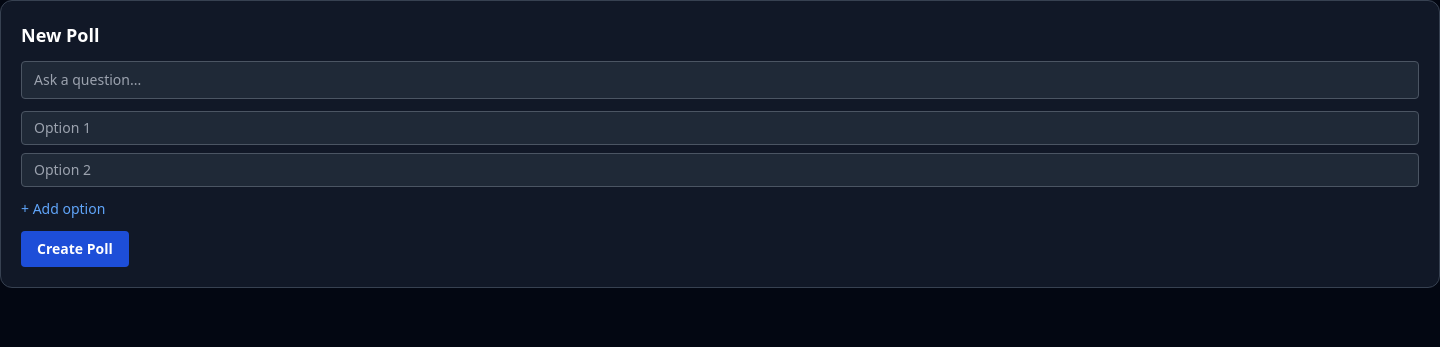
Scenario: CreatePoll › can add a third option
The image size is (1440, 347).
Click the button "+ Add option" at (63, 209), box [21,199,105,219]
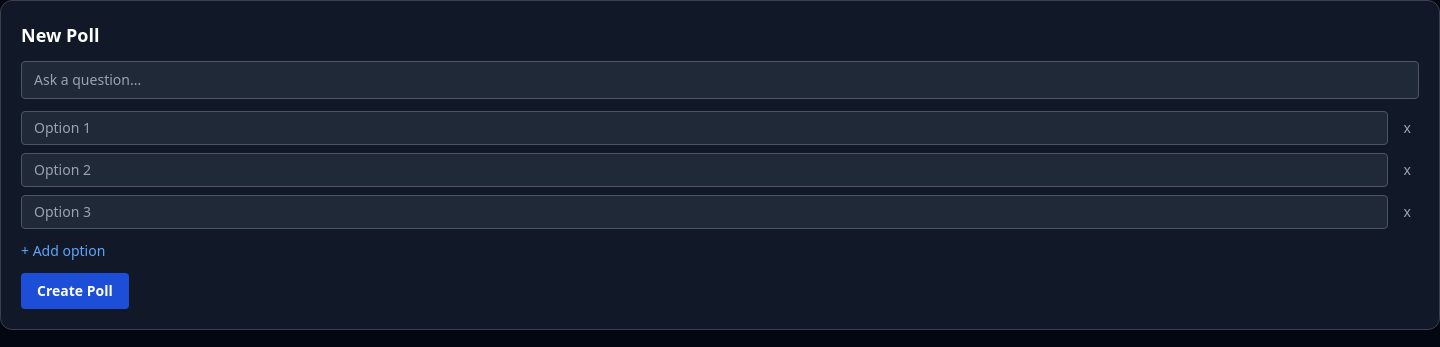
Now the field with placeholder "Option 3" is shown, box [21,195,1388,229]
